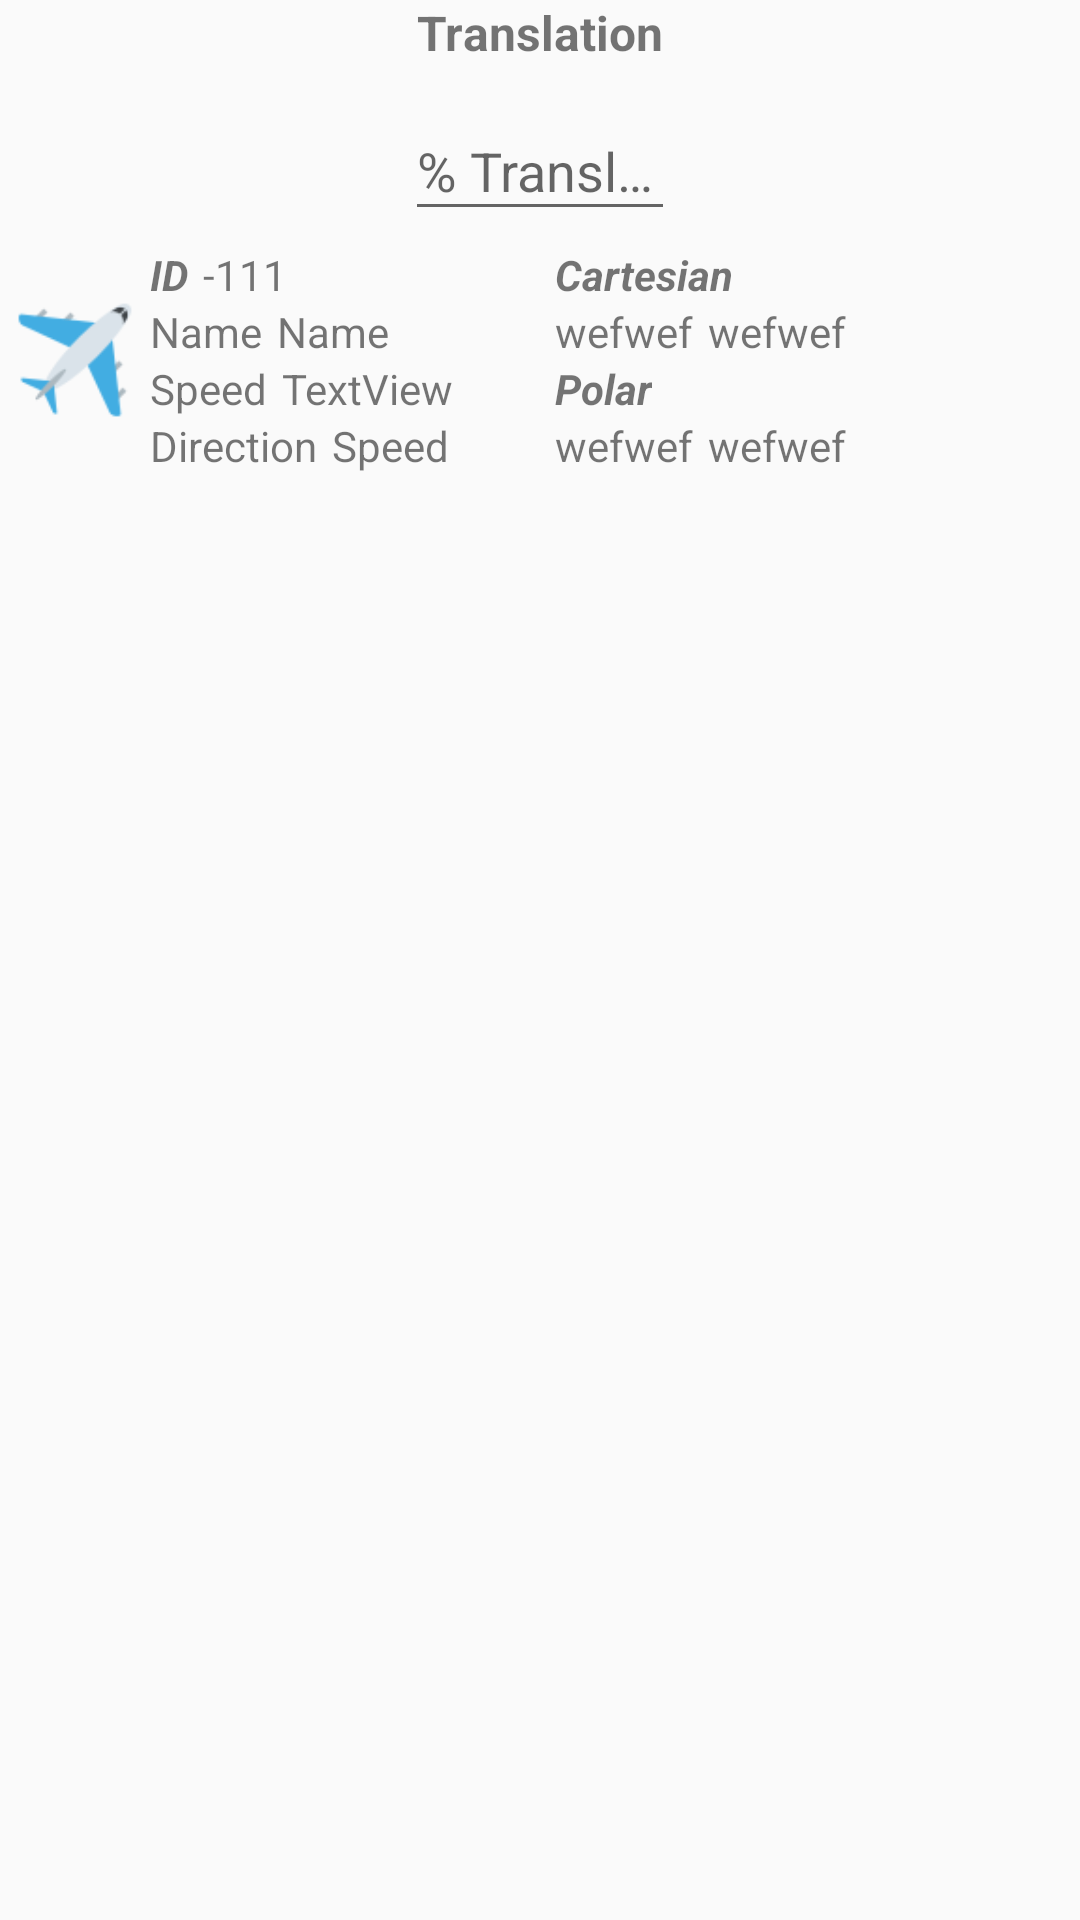

Icons on this 1080*1920 Android screen, each with the point to tap as point (x, y):
airplane top: point (74, 360)
